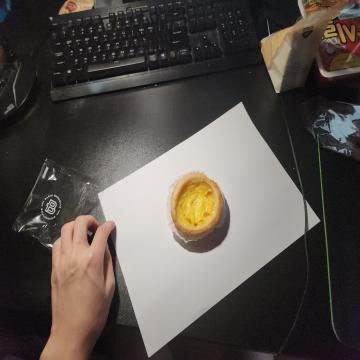EggTart: (168, 170, 224, 239)
